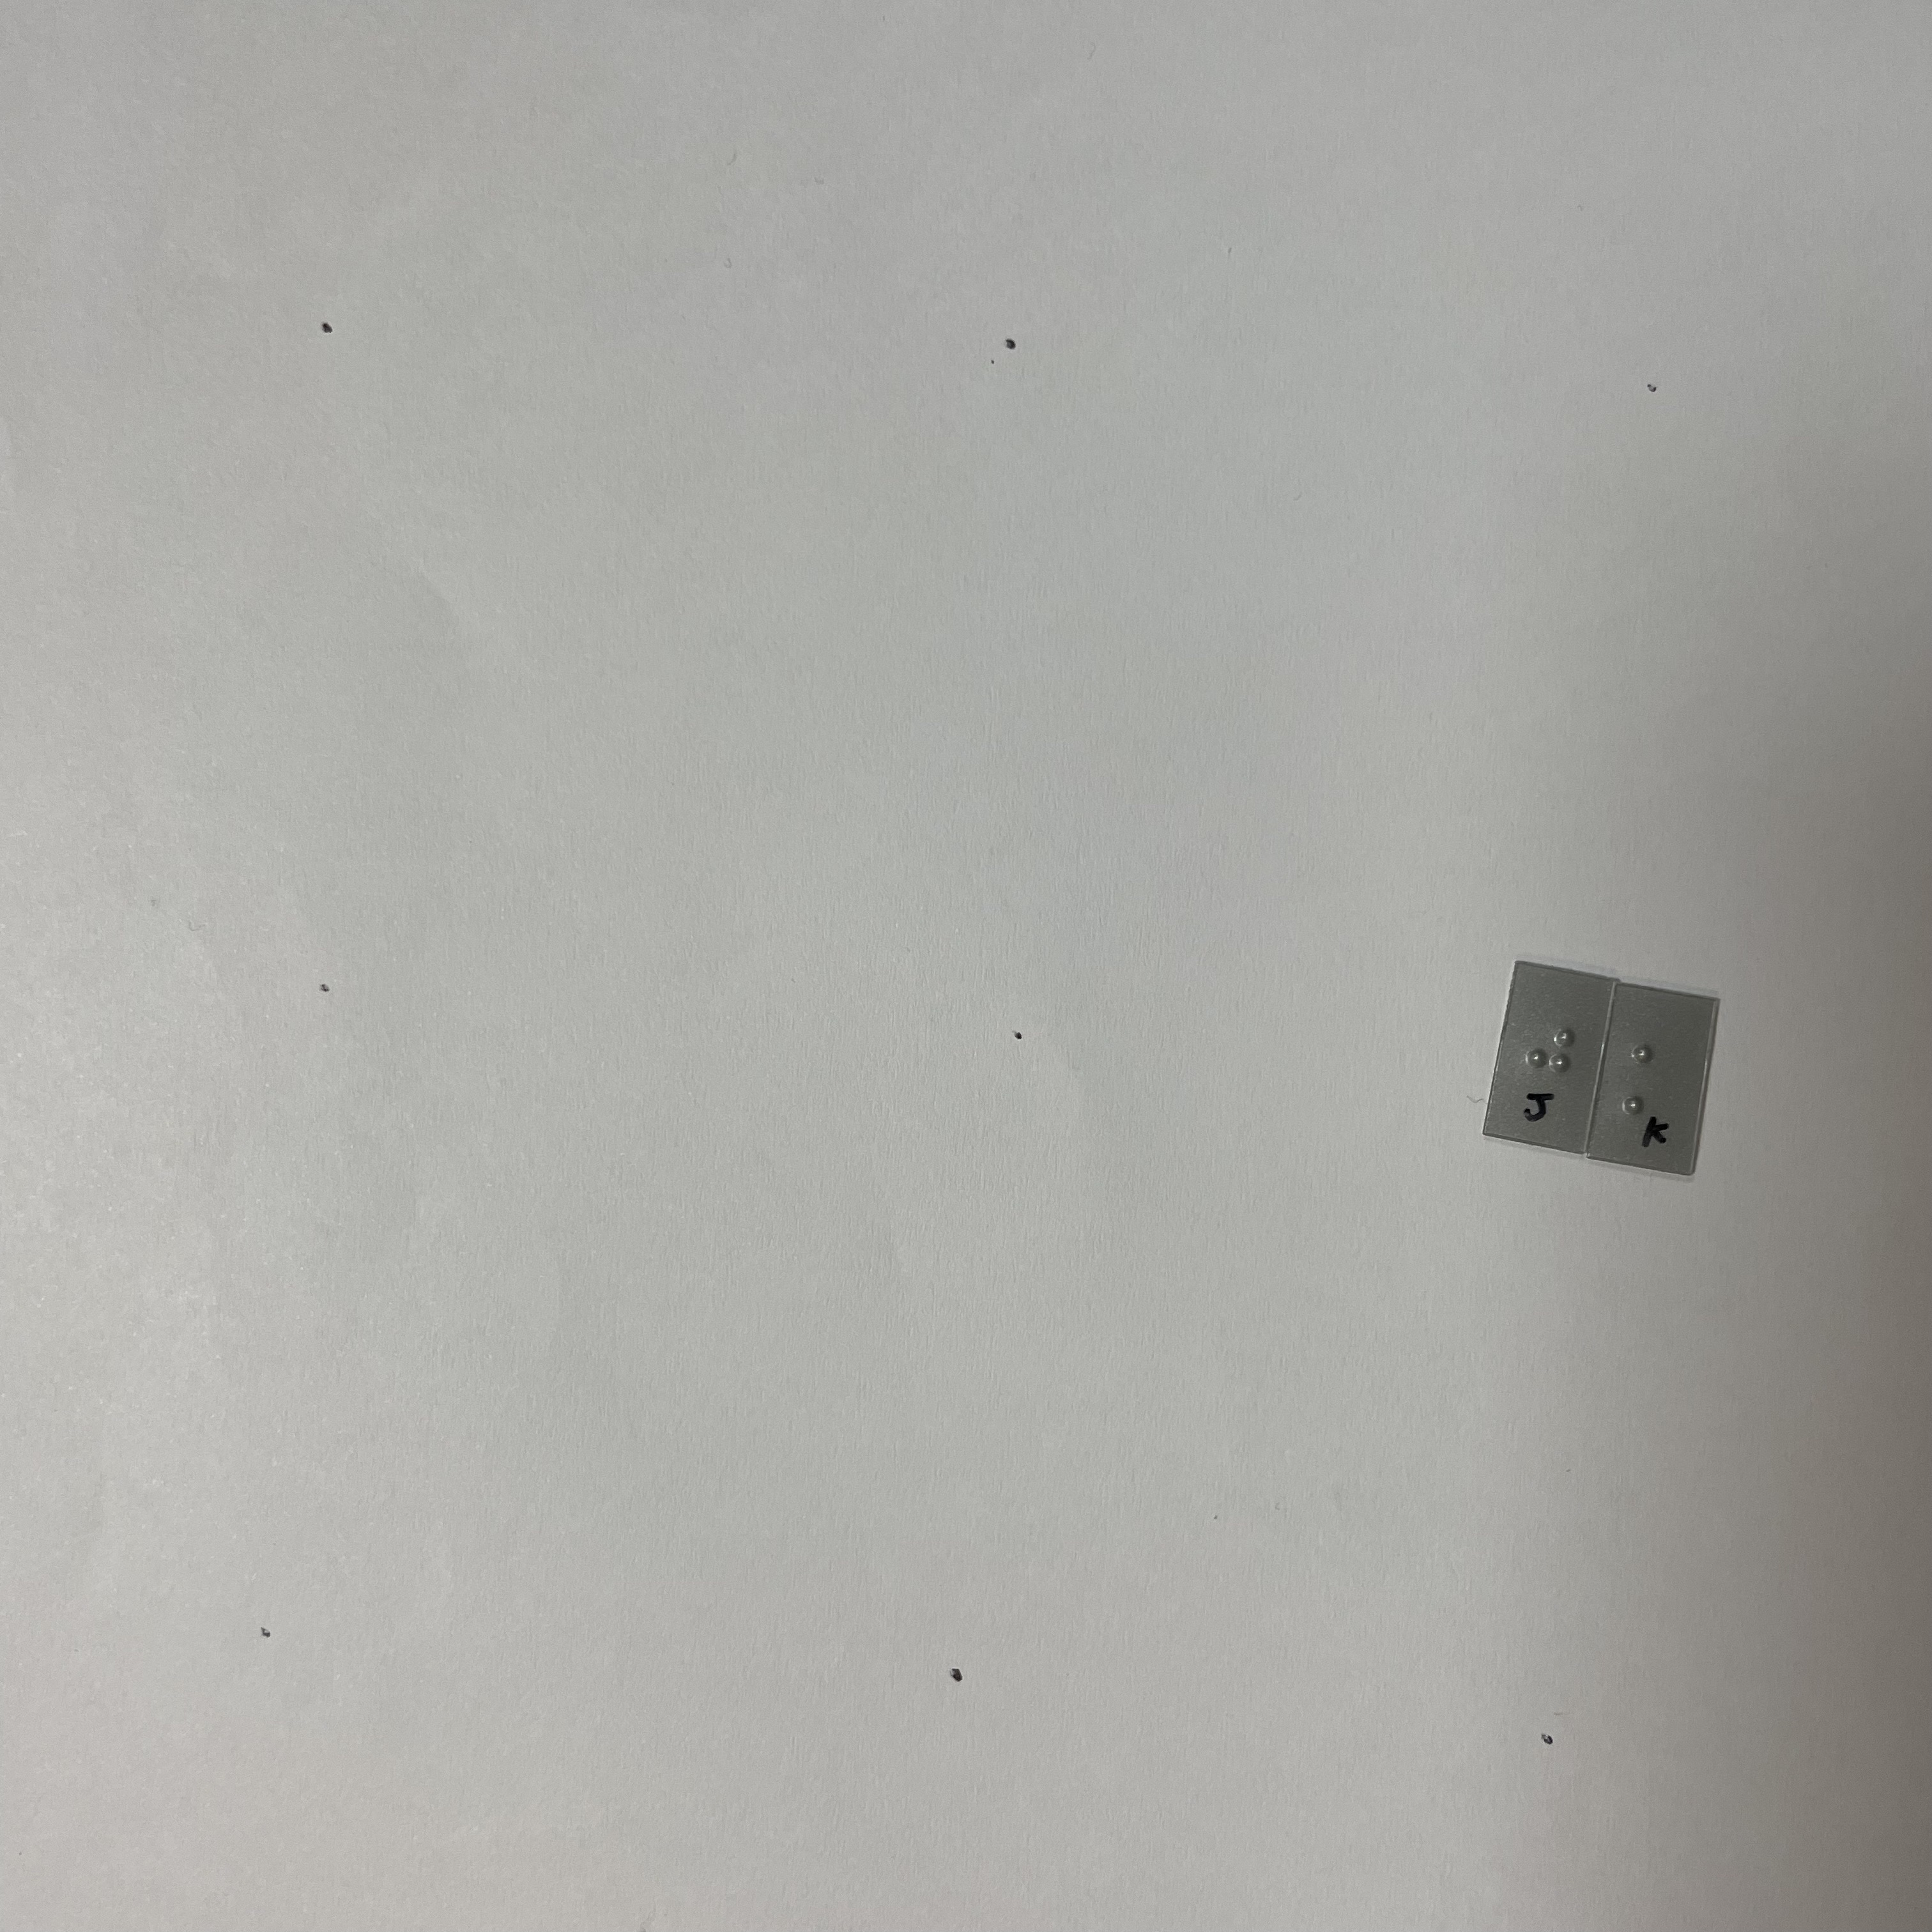j: (1524, 1018, 1583, 1103)
k: (1619, 1027, 1683, 1126)
